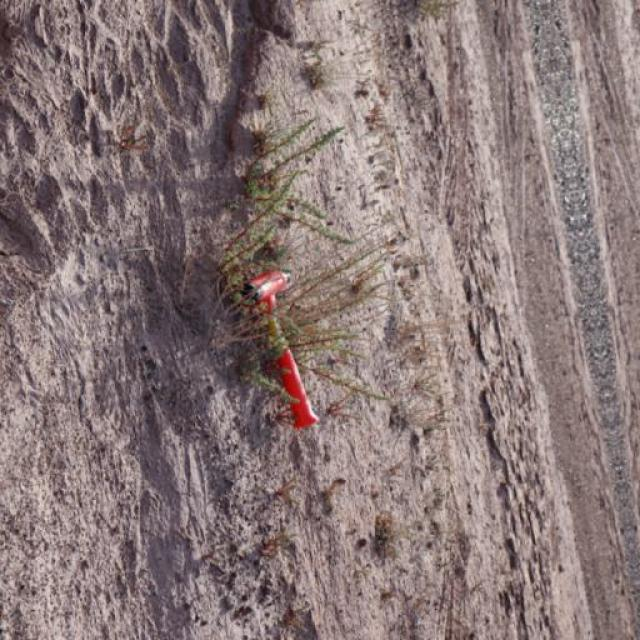mallet: (236, 268, 320, 430)
